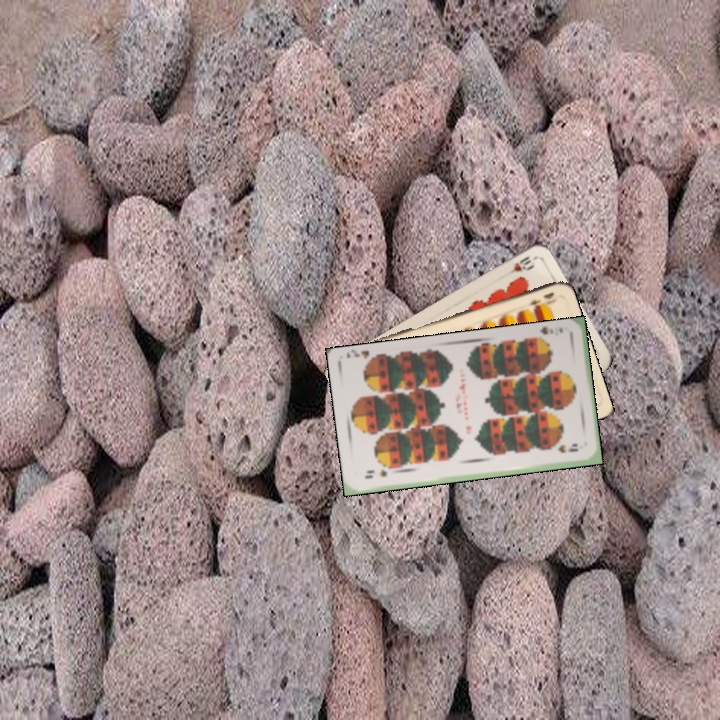E10: (524, 288, 557, 308)
H10: (500, 252, 537, 280)
S9: (530, 324, 566, 345), (360, 466, 390, 481)
